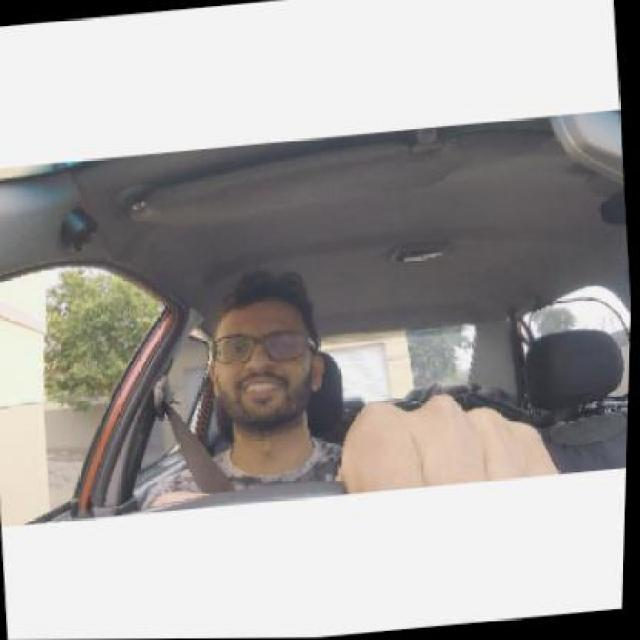person: (198, 263, 332, 454)
